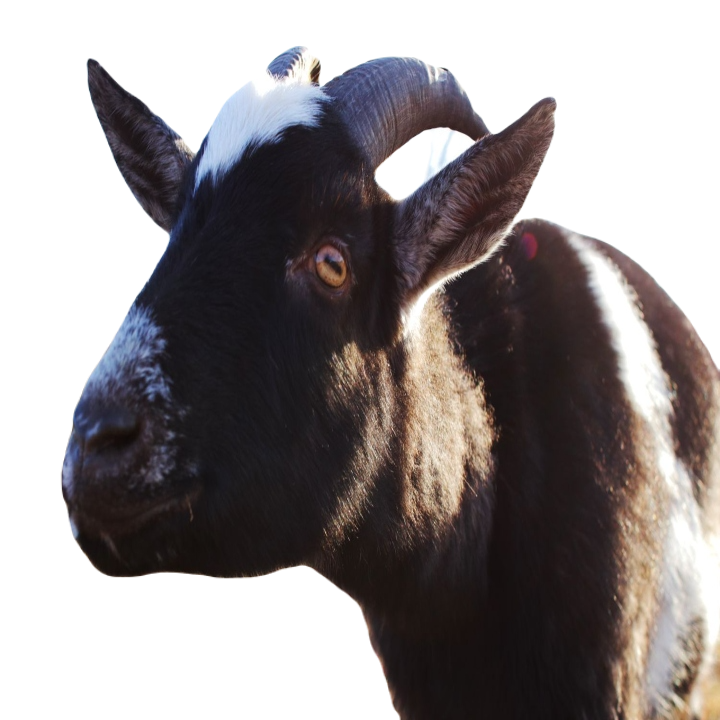Goat: (60, 46, 719, 719)
